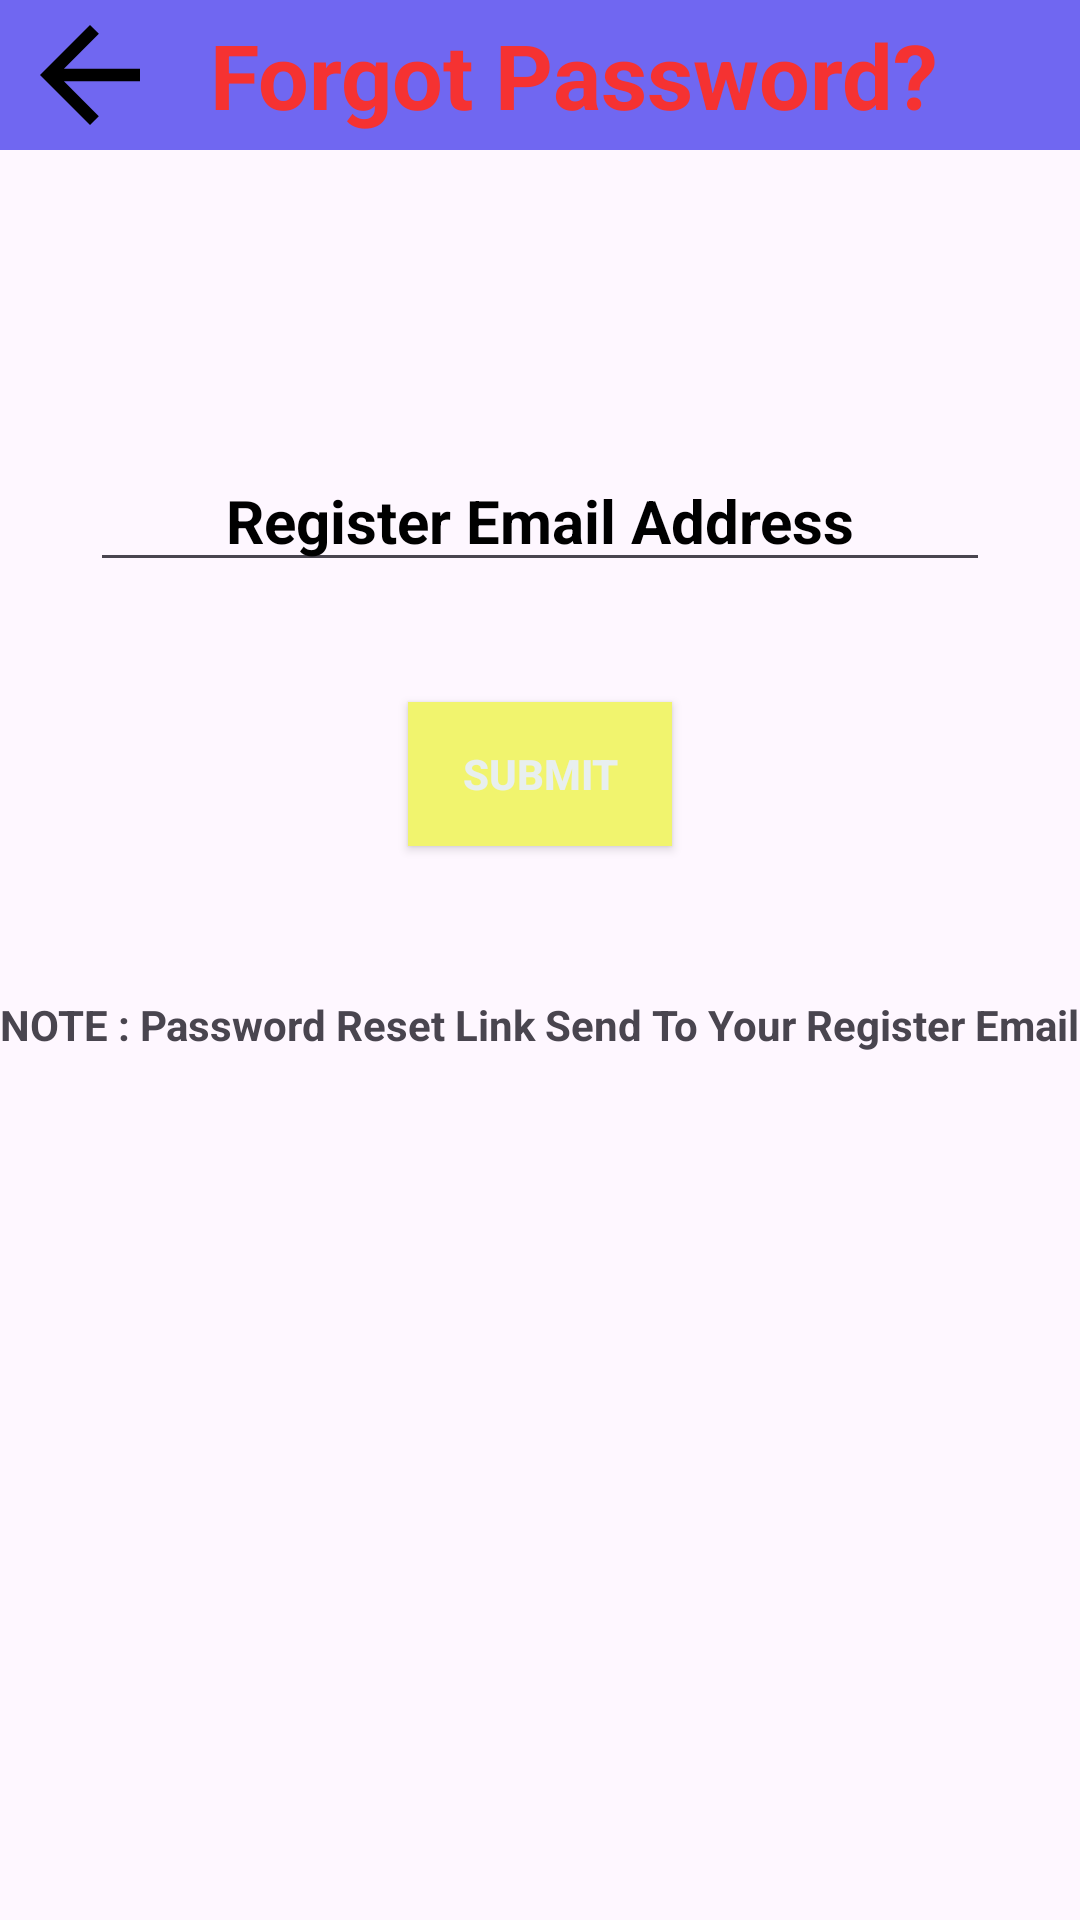

Point at icon controls on the screen. Image size 1080*1920, points as point (x, y).
back: point (90, 75)
